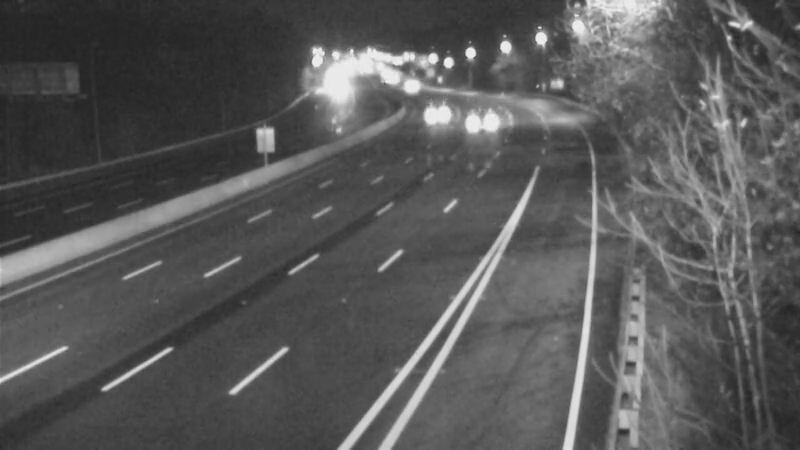vehicle: (385, 63, 435, 113), (408, 86, 458, 136), (451, 98, 501, 148), (312, 63, 362, 113)
